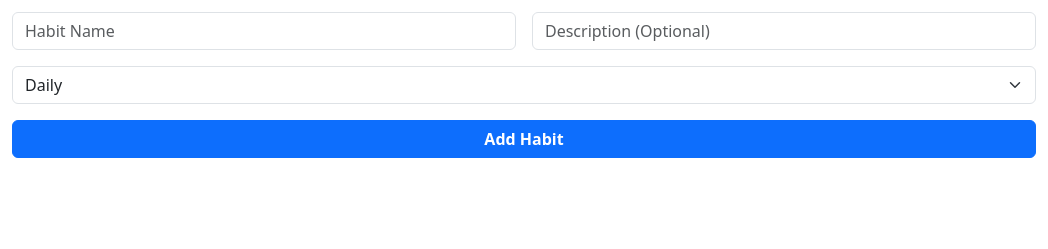
Test case: HabitForm › shows error if no token is present
Type "Read" into the field with placeholder "Habit Name" at (264, 31), box [12, 12, 516, 50]
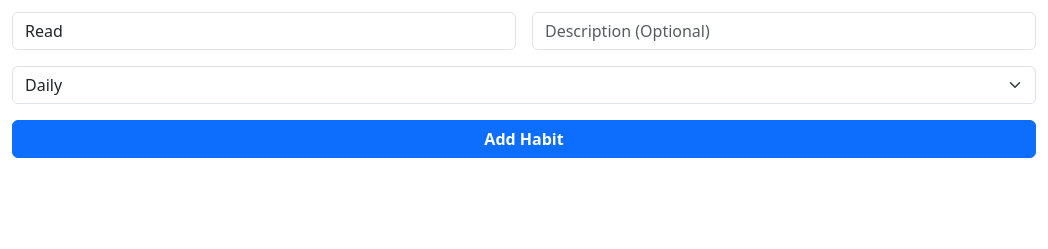
Click the button "Add Habit" at (524, 139), box [12, 120, 1036, 158]
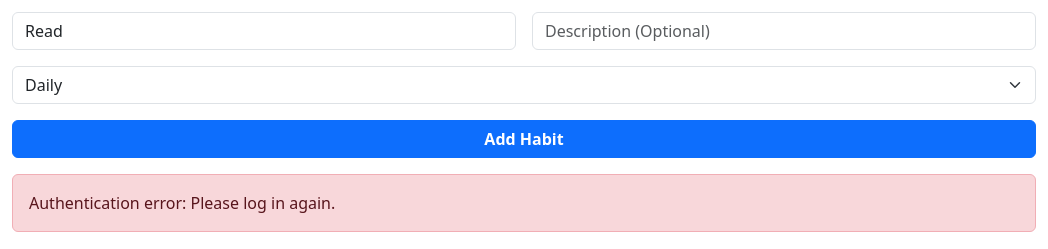
Check: the text "Authentication error: Please log in again." is shown, box [12, 174, 1036, 232]
